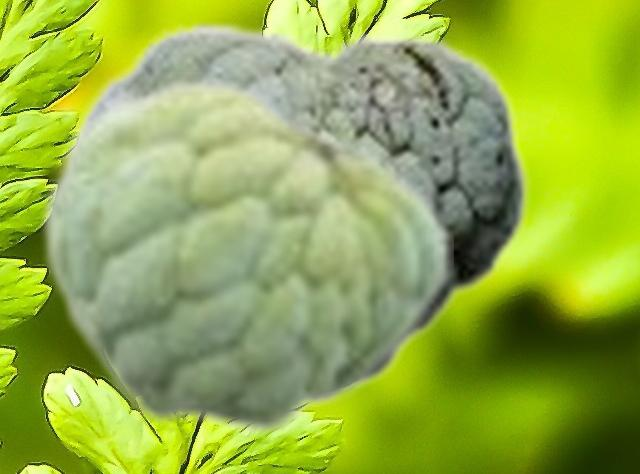atis: (65, 19, 530, 402), (37, 72, 452, 439)
